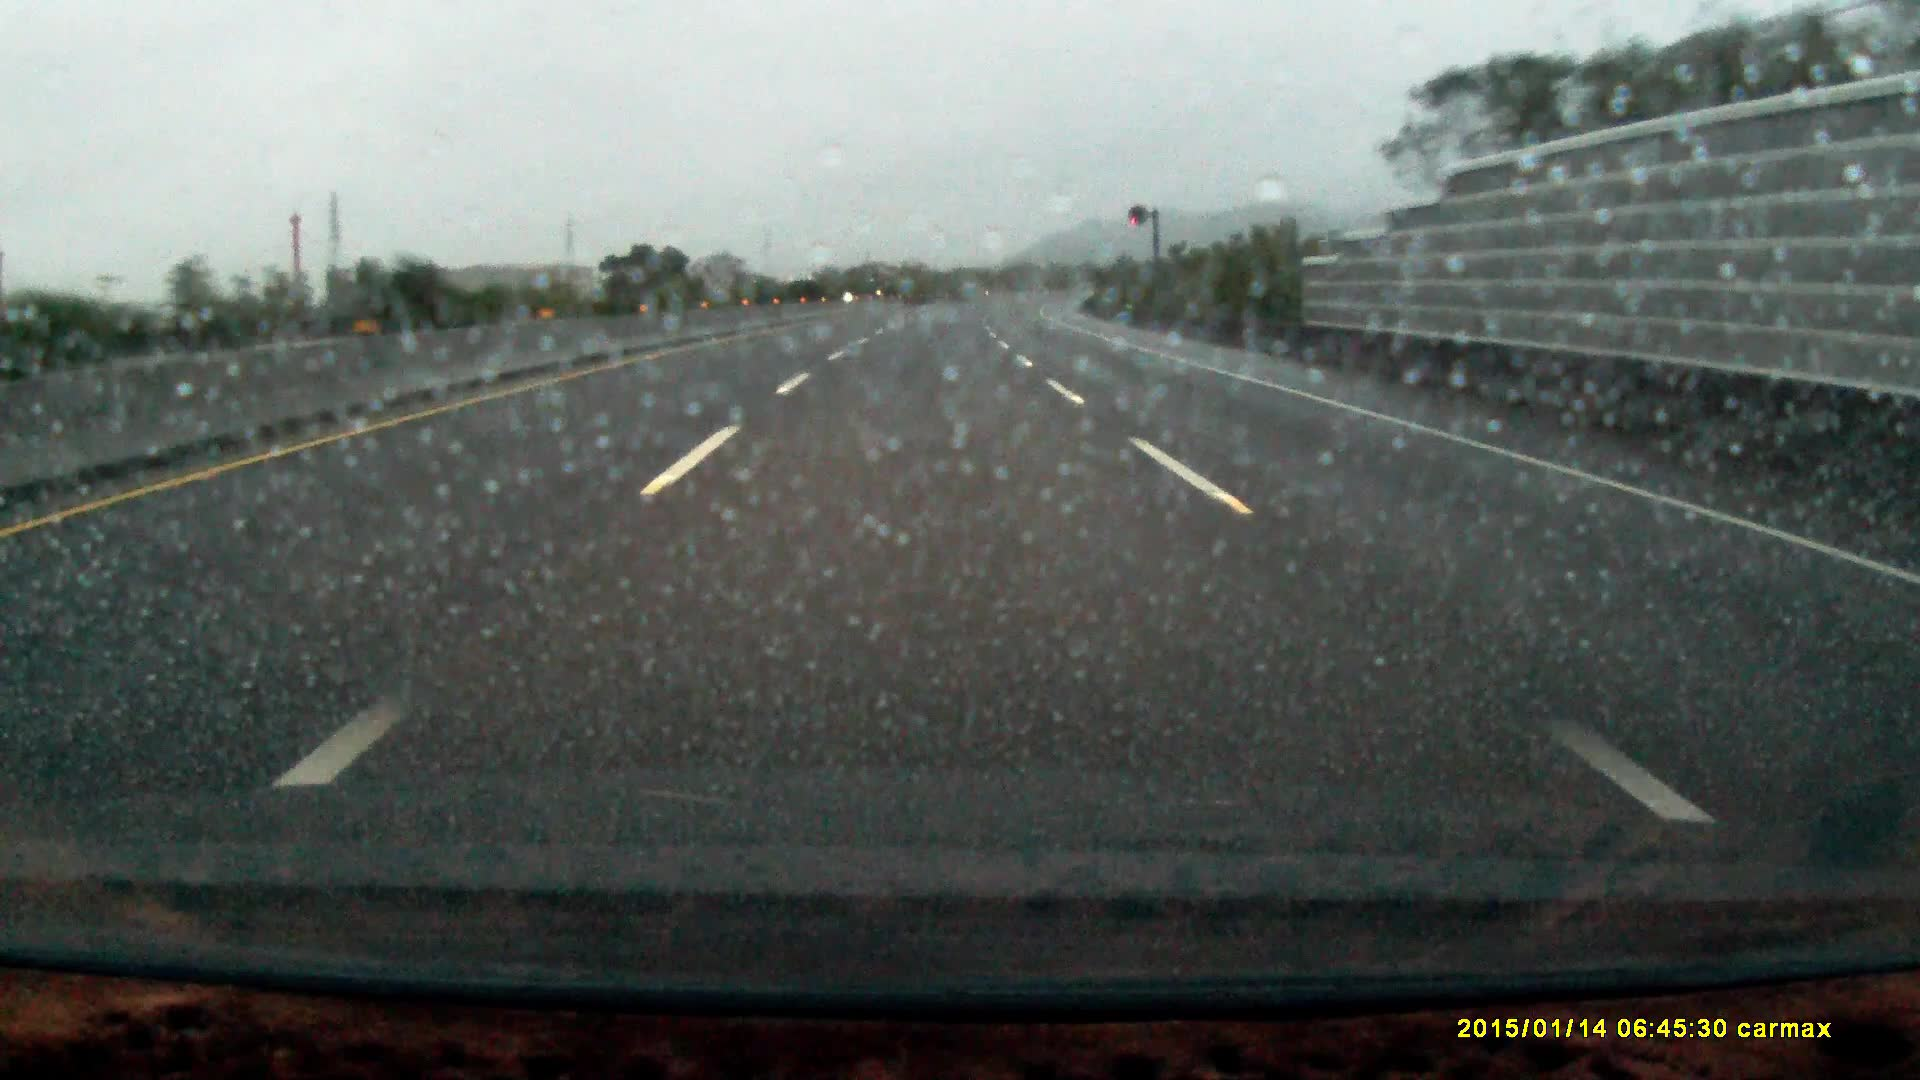vehicle: (861, 270, 899, 303)
